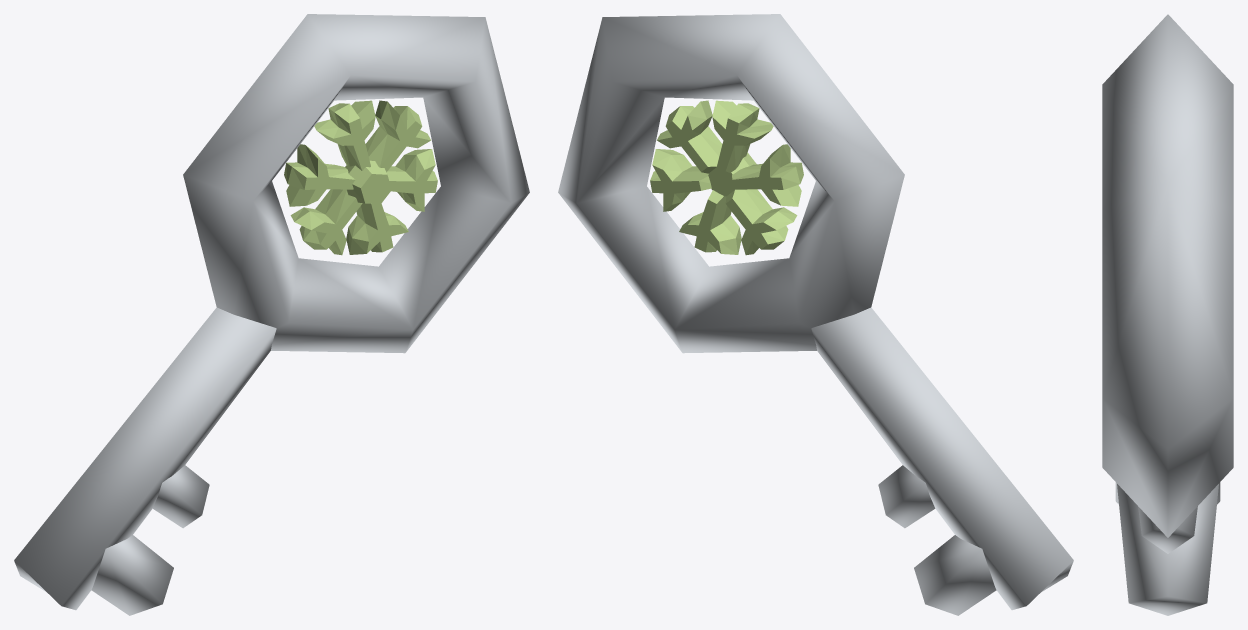
The model's file is SnowheadSmallKey.glb.
The picture shows the model from 3 angles, left to right: view 1: azimuth 30°, elevation 25°; view 2: azimuth 150°, elevation 25°; view 3: azimuth 270°, elevation 25°; orthographic projection. The views are drawn at different scales.
Visible parts, largest first — view 1: SnowheadSmallKey; view 2: SnowheadSmallKey; view 3: SnowheadSmallKey.
Part boxes in pixels (bbox=[...]): SnowheadSmallKey: bbox=[14, 14, 529, 615]; SnowheadSmallKey: bbox=[558, 14, 1073, 615]; SnowheadSmallKey: bbox=[1102, 14, 1233, 615].
Size of the model in its own units: 58 by 60 by 10.
